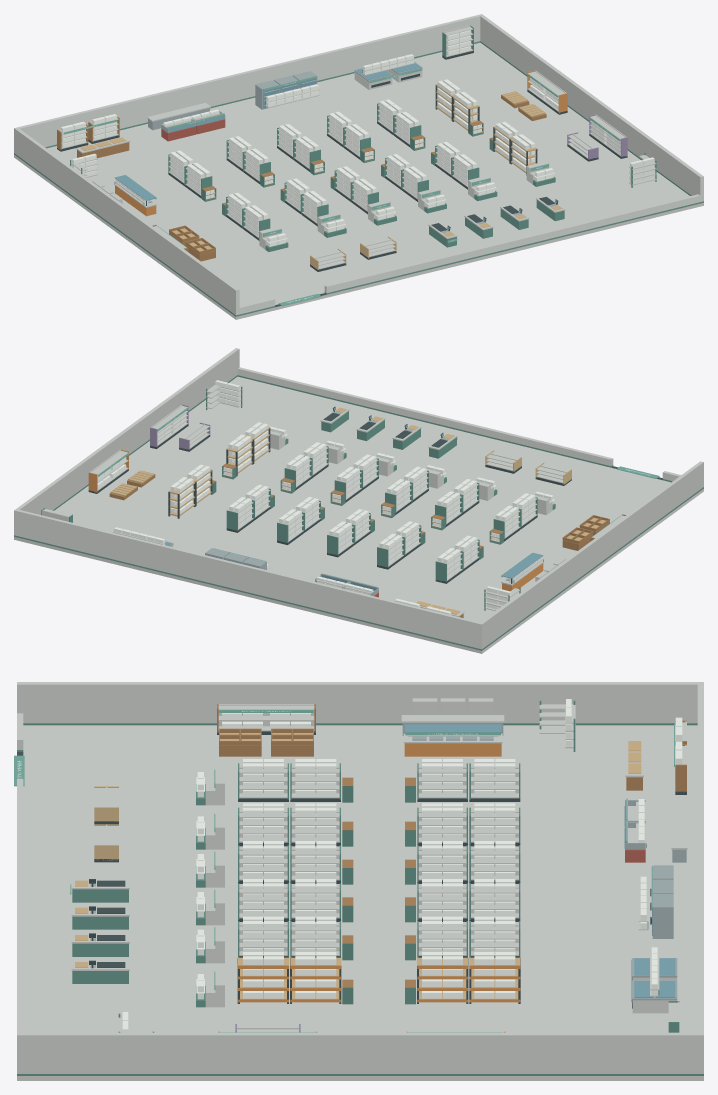
File: supermercado_1.glb
3 renders of one model, top to bottom at view 1: azimuth 30°, elevation 25°; view 2: azimuth 150°, elevation 25°; view 3: azimuth 270°, elevation 25°, orthographic. The views are drawn at different scales.
Visible parts, largest first — view 1: Supermercado / estructura, Paredes perimetrales / acceso unico; view 2: Supermercado / estructura, Paredes perimetrales / acceso unico; view 3: Supermercado / estructura, Paredes perimetrales / acceso unico.
Part boxes in pixels (bbox=[...]): Supermercado / estructura: bbox=[14, 25, 703, 319]; Paredes perimetrales / acceso unico: bbox=[14, 14, 703, 316]; Supermercado / estructura: bbox=[14, 376, 703, 653]; Paredes perimetrales / acceso unico: bbox=[14, 348, 703, 650]; Supermercado / estructura: bbox=[17, 698, 703, 1080]; Paredes perimetrales / acceso unico: bbox=[17, 682, 703, 1075].
Bounding box in the file's own units: 56.01 × 3.66 × 46.22.
